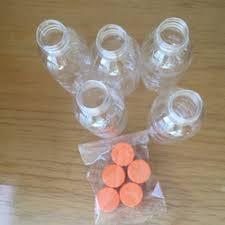BIODEGRADABLE: (137, 86, 206, 155), (16, 19, 92, 81), (61, 78, 132, 138), (94, 22, 149, 91), (142, 14, 194, 86)
